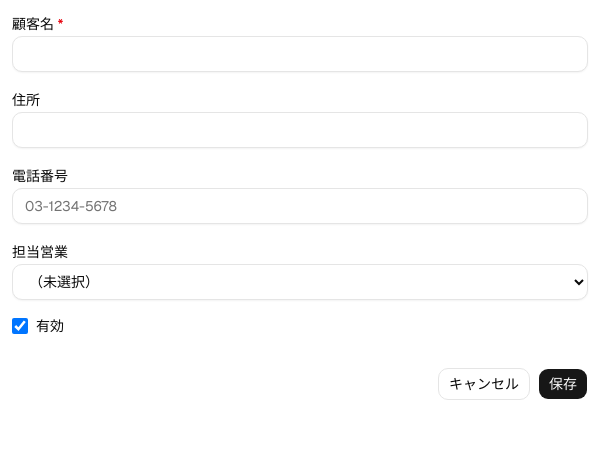
Scenario: CustomerForm › 403 レスポンス時に権限エラーメッセージが表示される
Type "ABC商事" into the field labelled "顧客名 *" at (300, 54), box [12,36,588,72]
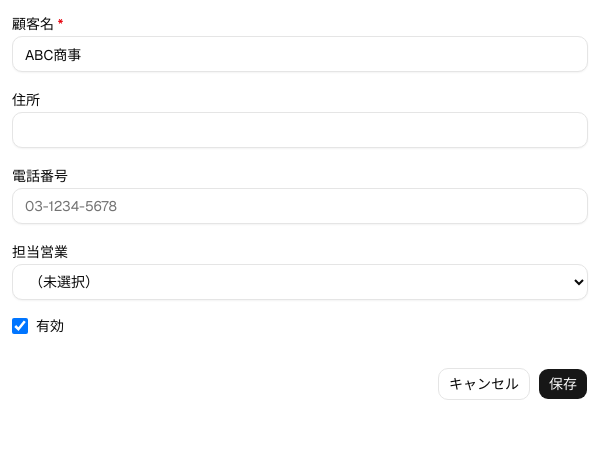
Click the button "保存" at (563, 384), box [538,368,588,400]
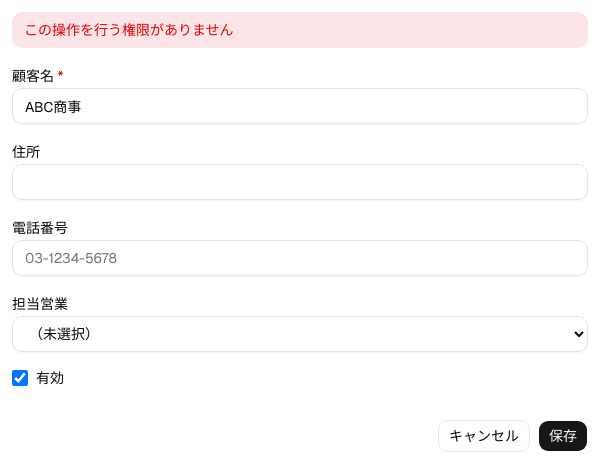
Now the text "この操作を行う権限がありません" is shown, box [12,12,588,48]
